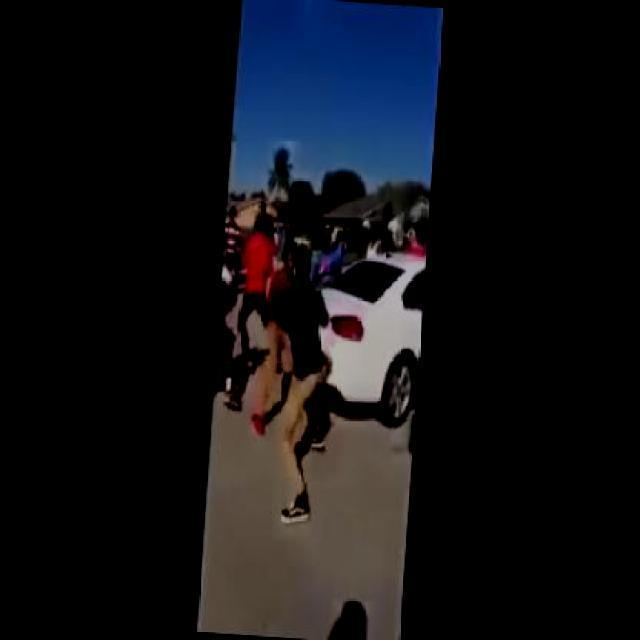fight: (256, 236, 342, 390)
